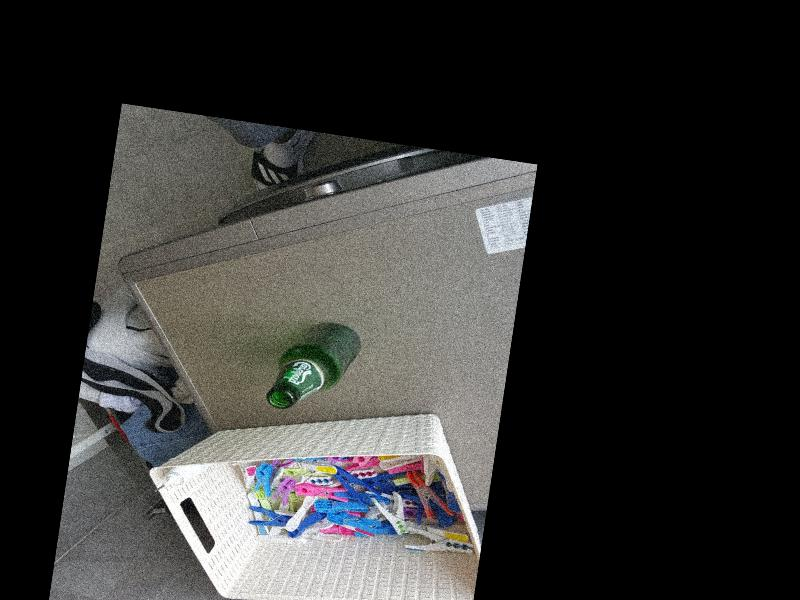Beer: (264, 313, 361, 416)
